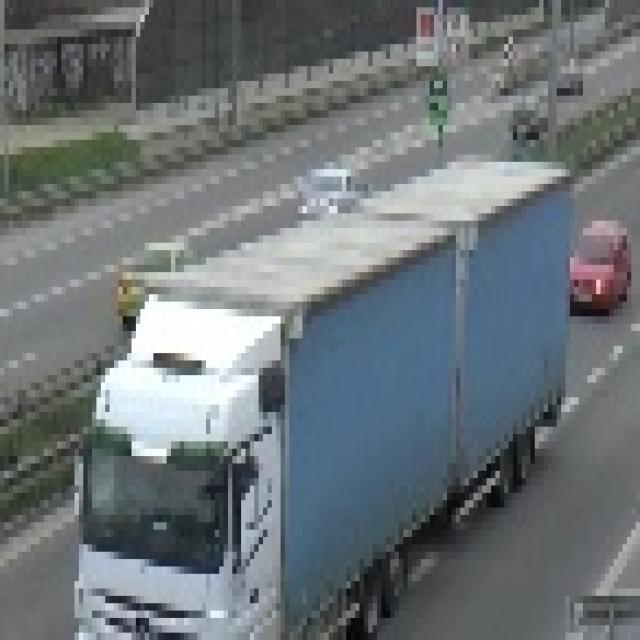TRUCK: (65, 170, 567, 640)
